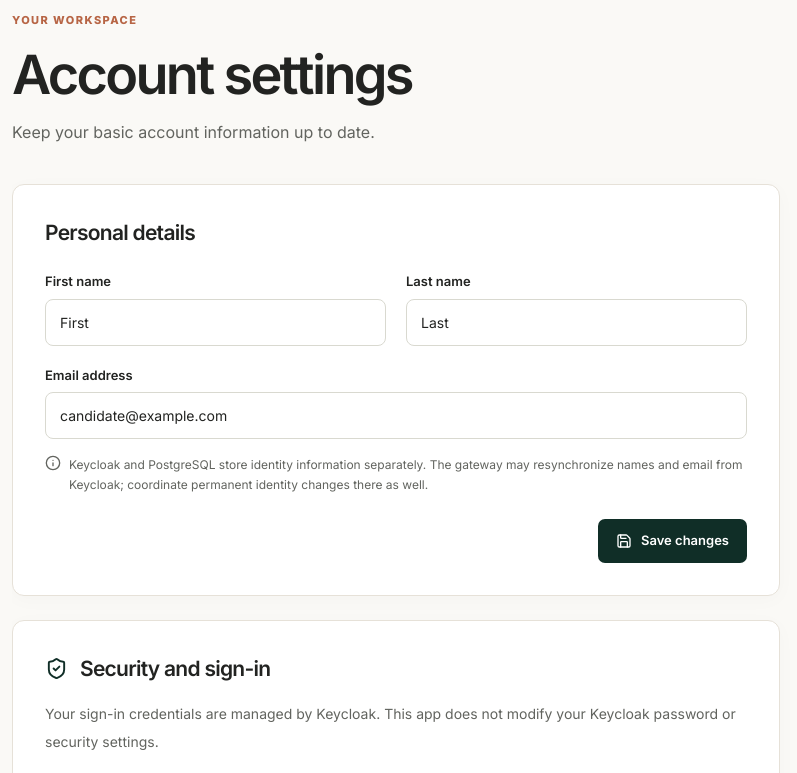
Test: account view through the injected controller › shows controller field errors and prevents invalid updates
Expected: the field showing "candidate@example.com" is shown, left=45, top=392, right=747, bottom=439
Clear the field labelled "First name" at x=216, y=322, box left=45, top=299, right=386, bottom=346
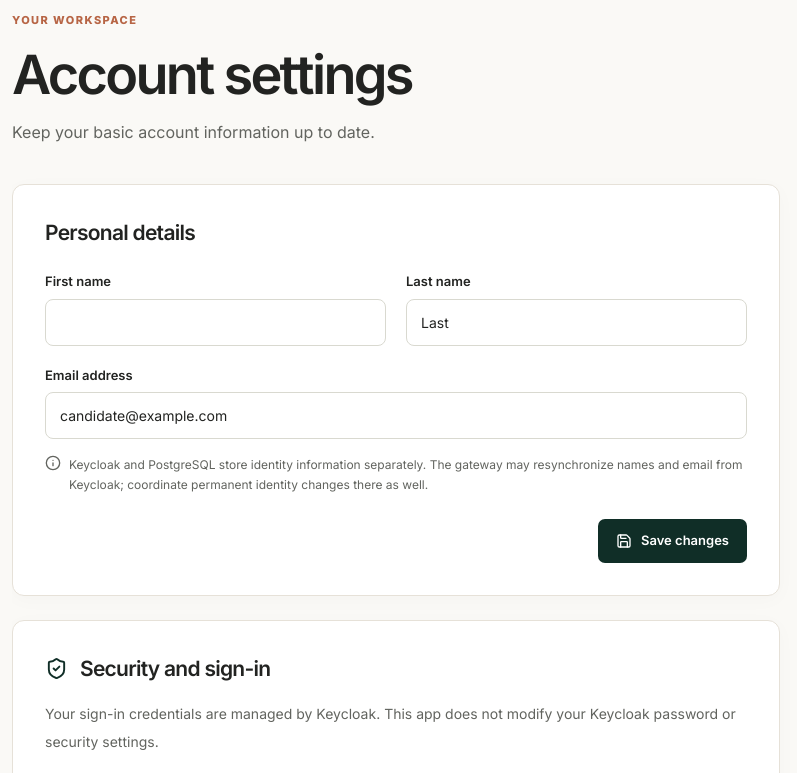
Replace the text in the field labelled "Email address" with "invalid" at x=396, y=416, box left=45, top=392, right=747, bottom=439
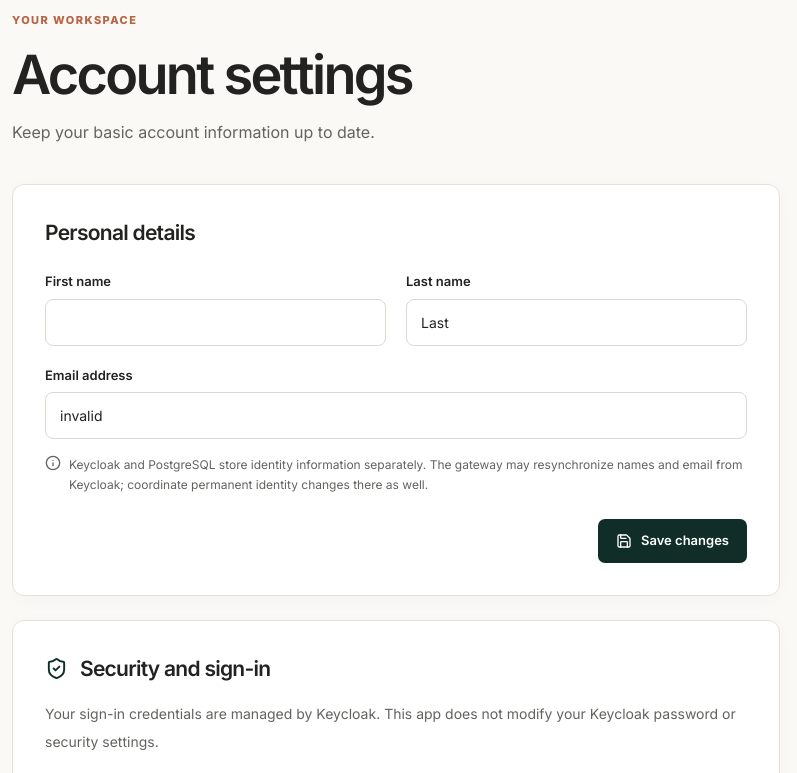
Submit the form named "Save changes", box left=12, top=184, right=780, bottom=596
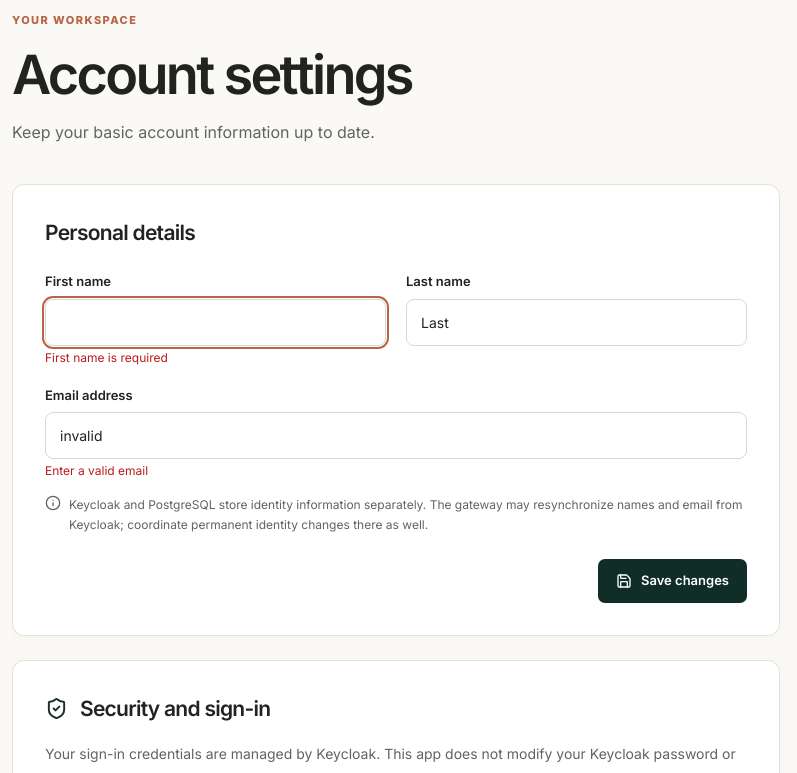
Expected: the text "First name is required" is shown, left=45, top=350, right=168, bottom=365
Expected: the text "Enter a valid email" is shown, left=45, top=463, right=148, bottom=478
